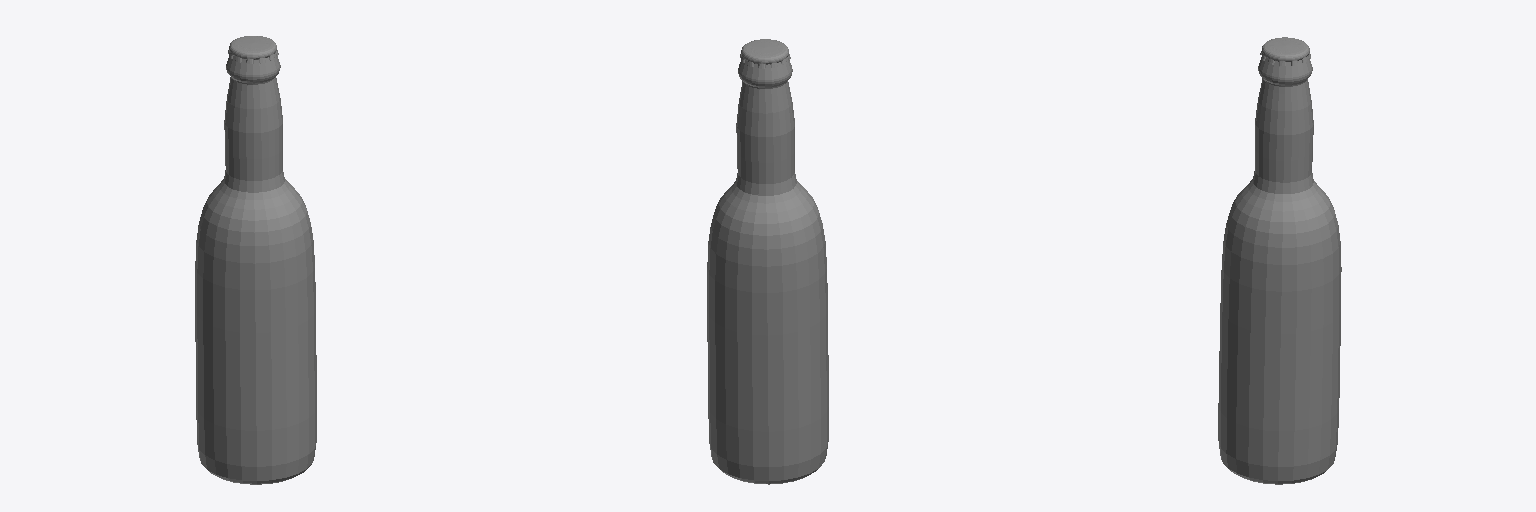
Rendered from Corona.obj.
3 renders of one model, left to right at view 1: azimuth 30°, elevation 25°; view 2: azimuth 150°, elevation 25°; view 3: azimuth 270°, elevation 25°, orthographic.
Visible parts, largest first — view 1: Corona; view 2: Corona; view 3: Corona.
Boxes of the visible parts, <box> form: Corona: <box>195,36,316,484</box>; Corona: <box>707,39,828,484</box>; Corona: <box>1218,37,1341,484</box>.
Bounding box in the file's own units: 10.56 × 40.59 × 10.75.